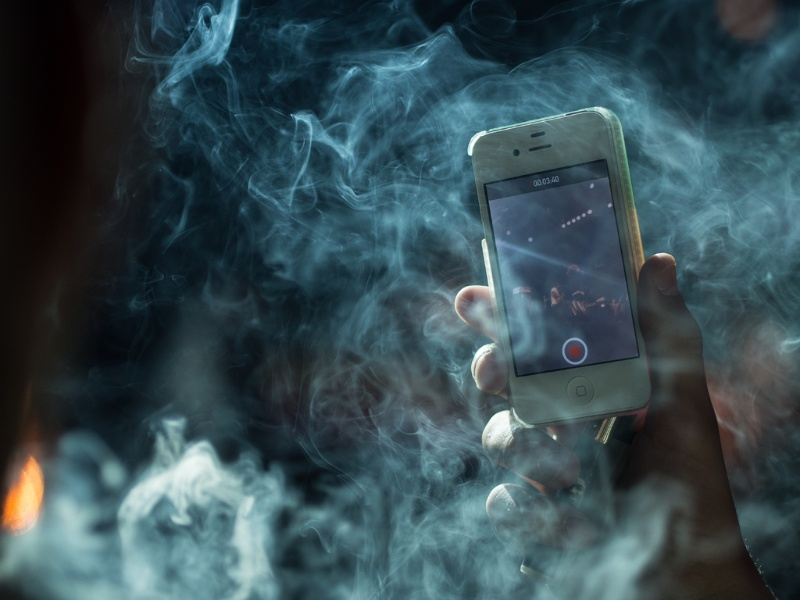cellphone: (459, 101, 663, 435)
